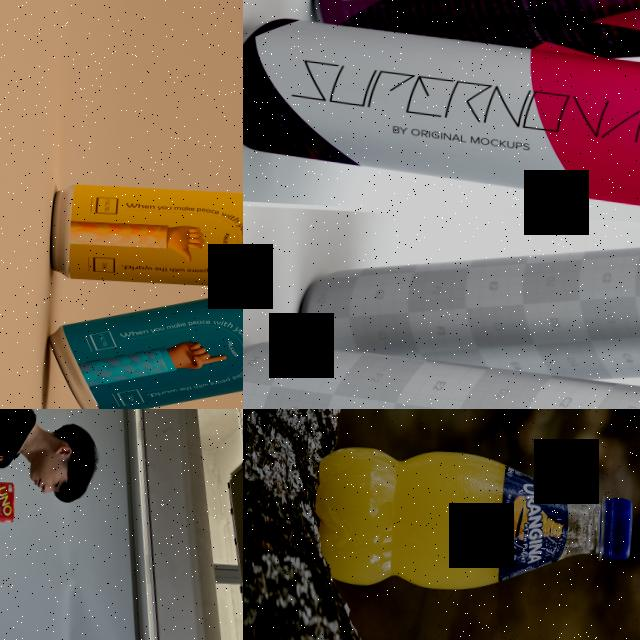bottle: (306, 443, 634, 603)
can: (243, 16, 640, 225), (243, 216, 640, 393), (43, 277, 243, 409), (287, 0, 640, 70), (48, 182, 243, 293), (243, 355, 640, 409)
